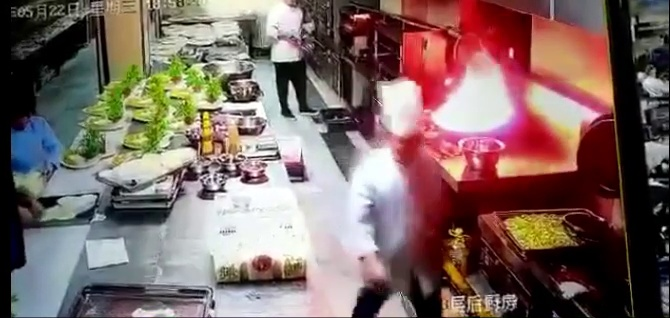fire: (434, 47, 516, 134)
